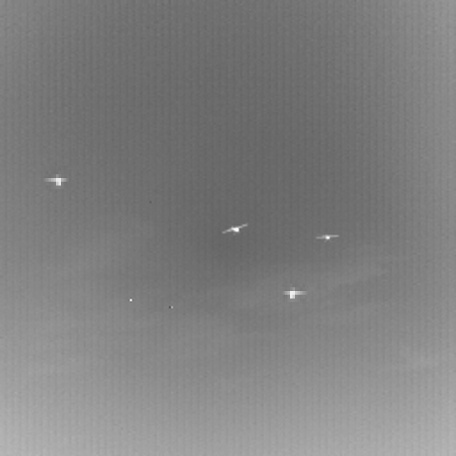plane: (40, 163, 71, 193), (280, 276, 310, 306), (216, 219, 246, 235), (311, 229, 336, 240)
